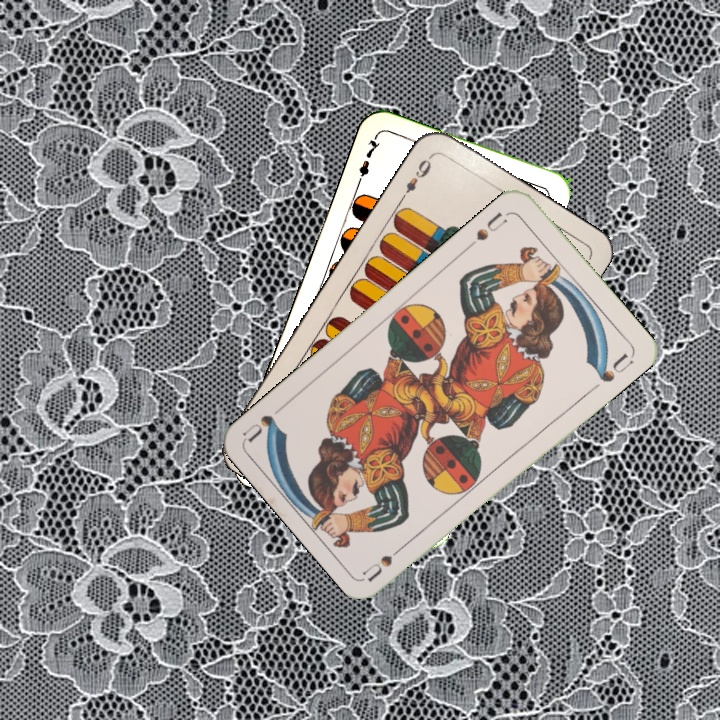E7: (352, 133, 383, 190)
E9: (396, 151, 435, 203)
SU: (360, 537, 412, 583), (463, 207, 510, 251)
